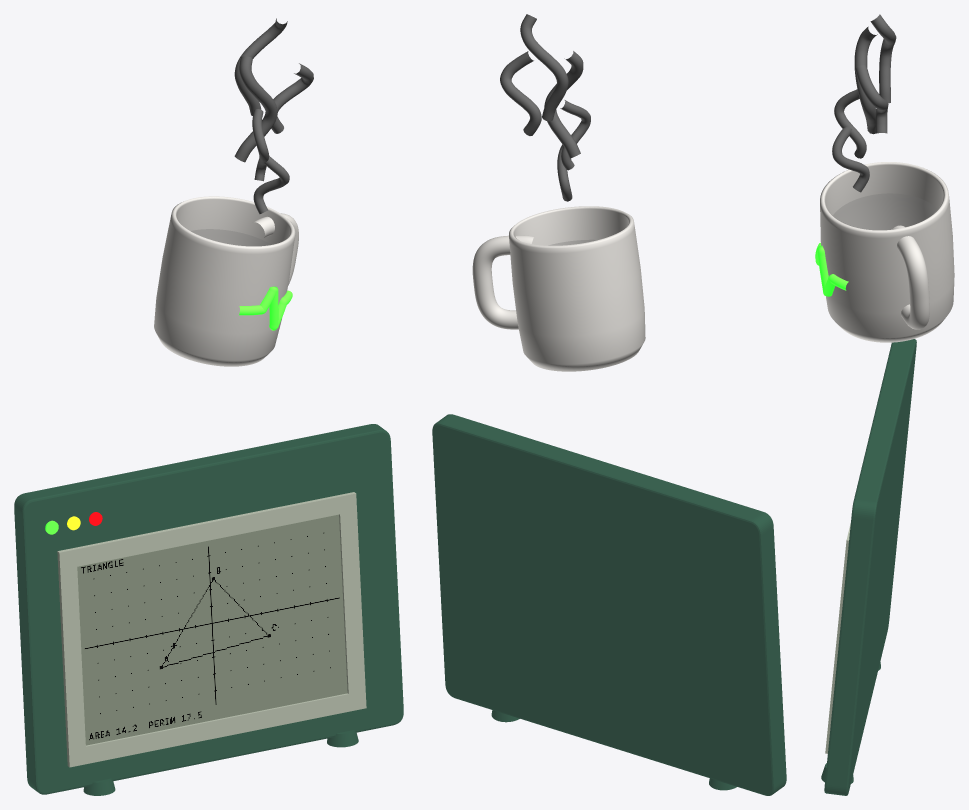
Rendered from brewinsight-calc.glb.
The picture shows the model from 3 angles, left to right: view 1: azimuth 30°, elevation 25°; view 2: azimuth 150°, elevation 25°; view 3: azimuth 270°, elevation 25°; orthographic projection. The views are drawn at different scales.
Visible parts, largest first — view 1: window_shell, terminal_screen, mug_body, bezel_top, bezel_bottom, bezel_left, bezel_right, steam_5, steam_2, pulse_line, steam_3, steam_6 (+2 smaller); view 2: window_shell, mug_body, mug_handle, steam_2, steam_3, steam_5, steam_4; view 3: mug_body, window_shell, coffee_surface, mug_handle, steam_2, steam_5, steam_3, steam_6, steam_4, pulse_line, bezel_right.
Part boxes in pixels (bbox=[...]): window_shell: bbox=[14, 424, 403, 794]; terminal_screen: bbox=[77, 514, 347, 745]; mug_body: bbox=[154, 196, 295, 366]; bezel_top: bbox=[57, 492, 356, 569]; bezel_bottom: bbox=[67, 691, 366, 767]; bezel_left: bbox=[58, 567, 85, 749]; bezel_right: bbox=[339, 511, 365, 693]; steam_5: bbox=[234, 56, 277, 162]; steam_2: bbox=[234, 18, 287, 115]; pulse_line: bbox=[239, 286, 292, 330]; steam_3: bbox=[271, 63, 313, 133]; steam_6: bbox=[253, 156, 289, 214]; window_shell: bbox=[432, 414, 786, 795]; mug_body: bbox=[509, 206, 645, 371]; mug_handle: bbox=[472, 235, 534, 329]; steam_2: bbox=[520, 14, 568, 121]; steam_3: bbox=[500, 51, 541, 135]; steam_5: bbox=[544, 51, 583, 158]; steam_4: bbox=[560, 100, 590, 170]; mug_body: bbox=[820, 162, 954, 342]; window_shell: bbox=[824, 339, 916, 795]; coffee_surface: bbox=[833, 193, 936, 229]; mug_handle: bbox=[892, 225, 929, 329]; steam_2: bbox=[870, 14, 896, 103]; steam_5: bbox=[854, 26, 877, 134]; steam_3: bbox=[855, 65, 888, 133]; steam_6: bbox=[832, 126, 869, 192]; steam_4: bbox=[834, 89, 866, 158]; pulse_line: bbox=[815, 242, 848, 296]; bezel_right: bbox=[827, 558, 847, 736].
Bounding box in the file's own units: 0.303 × 0.6004 × 0.1014.
Materials: 15 (1 with a texture image).
